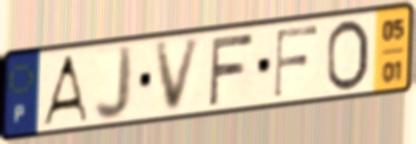A: (38, 52, 91, 128)
F: (206, 30, 257, 109), (271, 23, 320, 101)
J: (92, 43, 136, 124)
O: (324, 18, 371, 95)
V: (152, 34, 205, 116)
